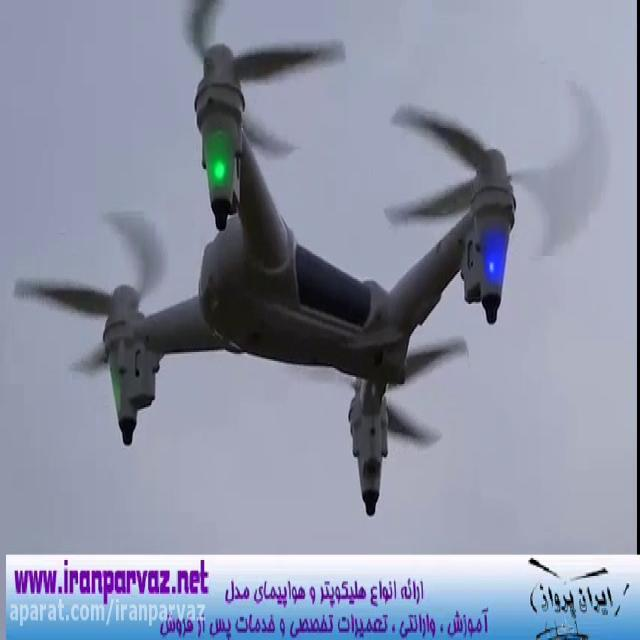drone: (12, 0, 617, 521)
